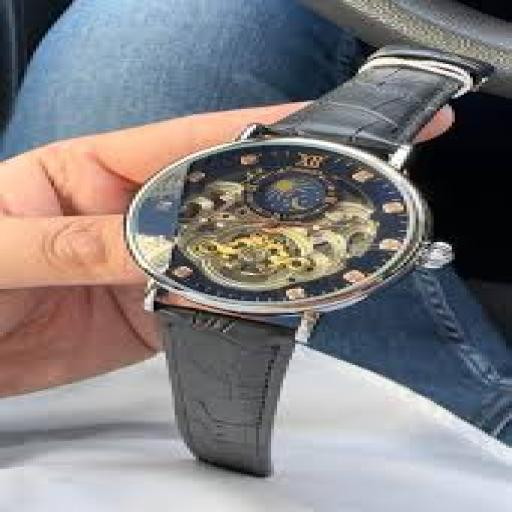KolSaati: (50, 37, 483, 457)
